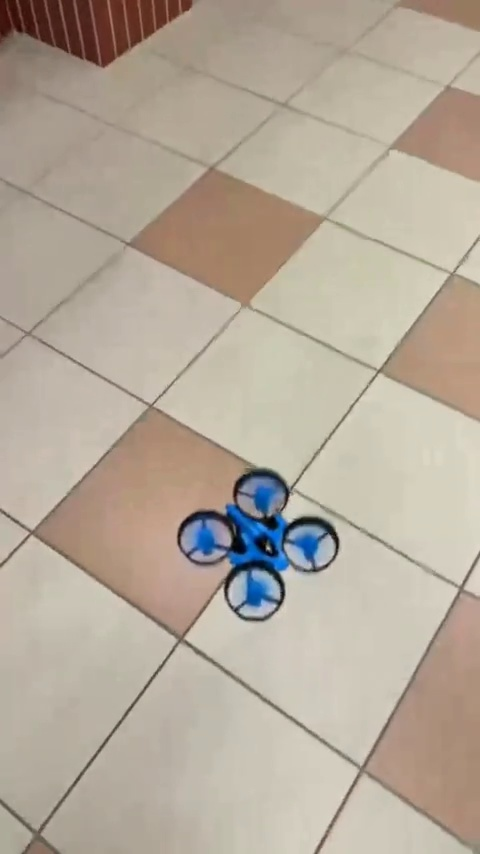drone: (171, 469, 340, 625)
